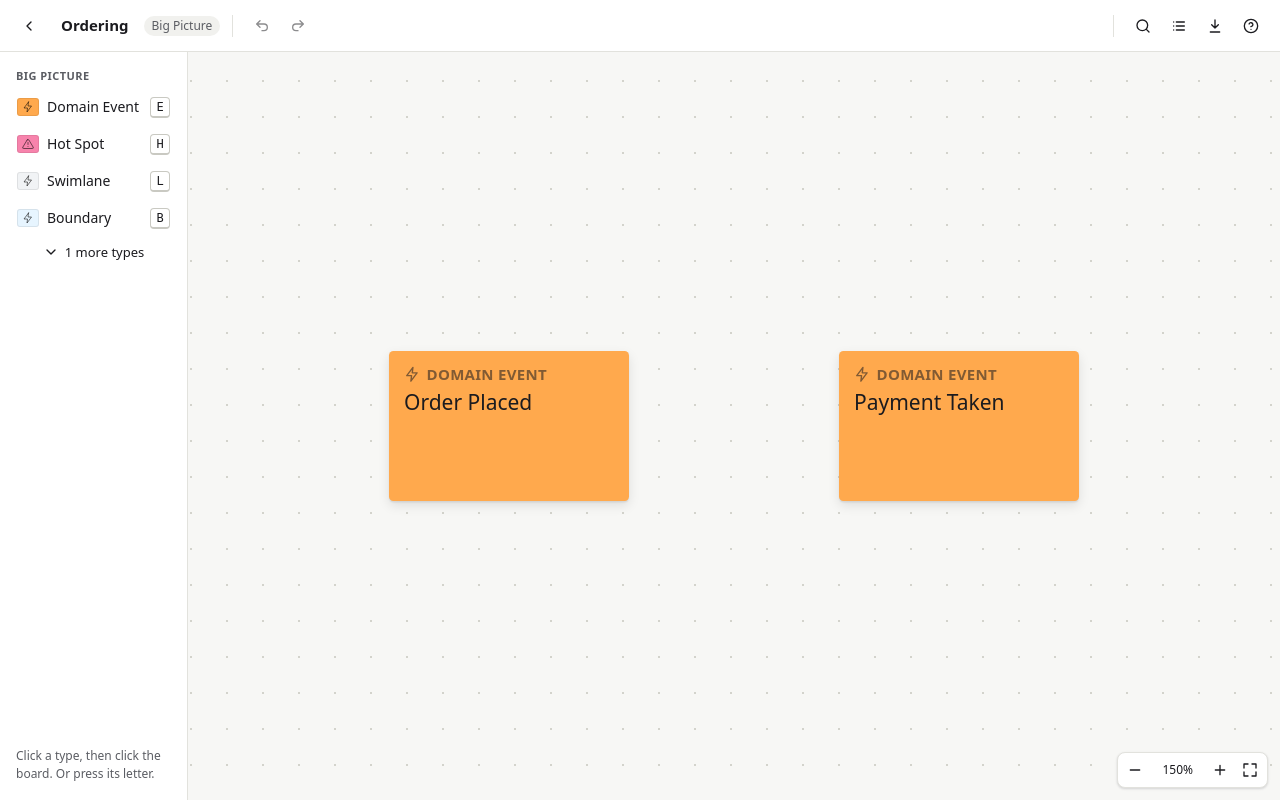
Test: board editor › adds a sticky from the keyboard: its letter, the text, Enter
This screenshot has width=1280, height=800.
Check: the button with aria-label "Domain Event: Order Placed" is shown, box [389,351,629,501]
Step 1. Type keys "h"
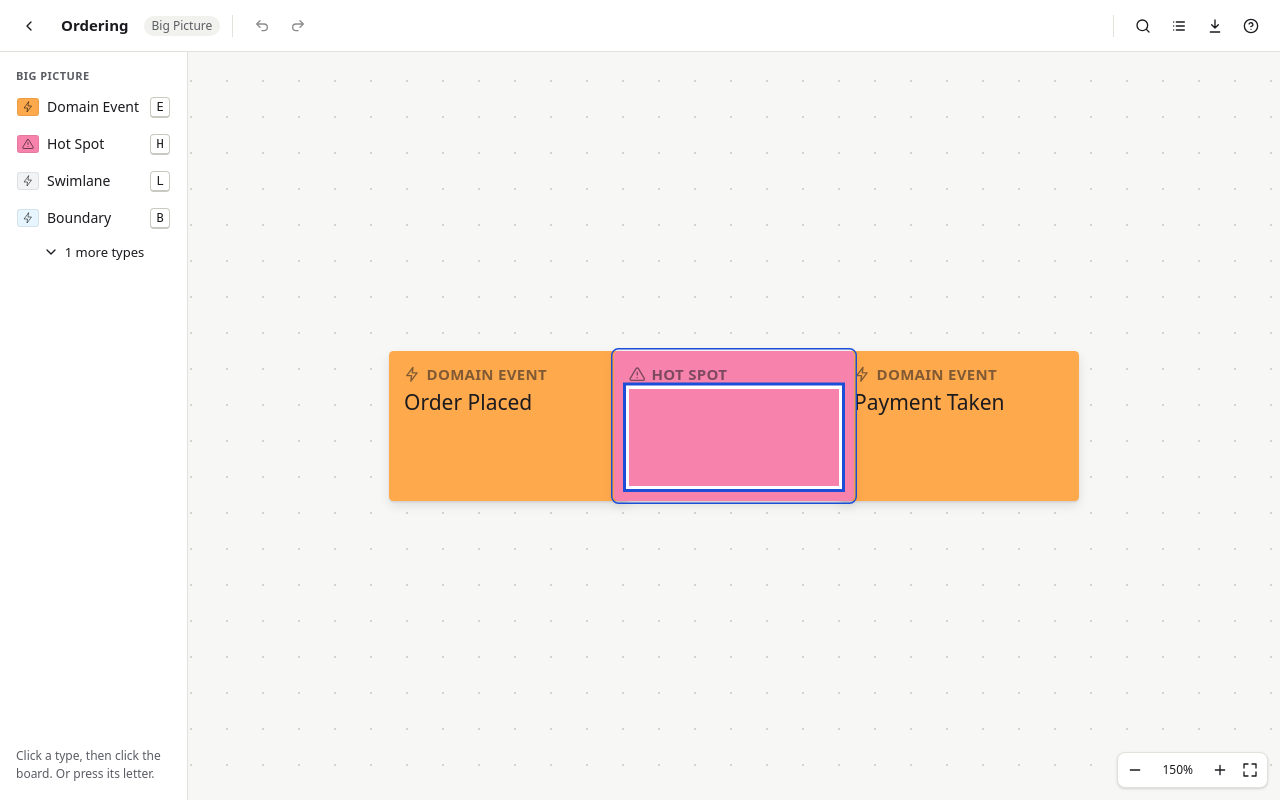
Step 2. Type "Who pays for a refund?" into the text box named "Text of the new Hot Spot" → (734, 437), box [629,388,839,486]
Then press Enter
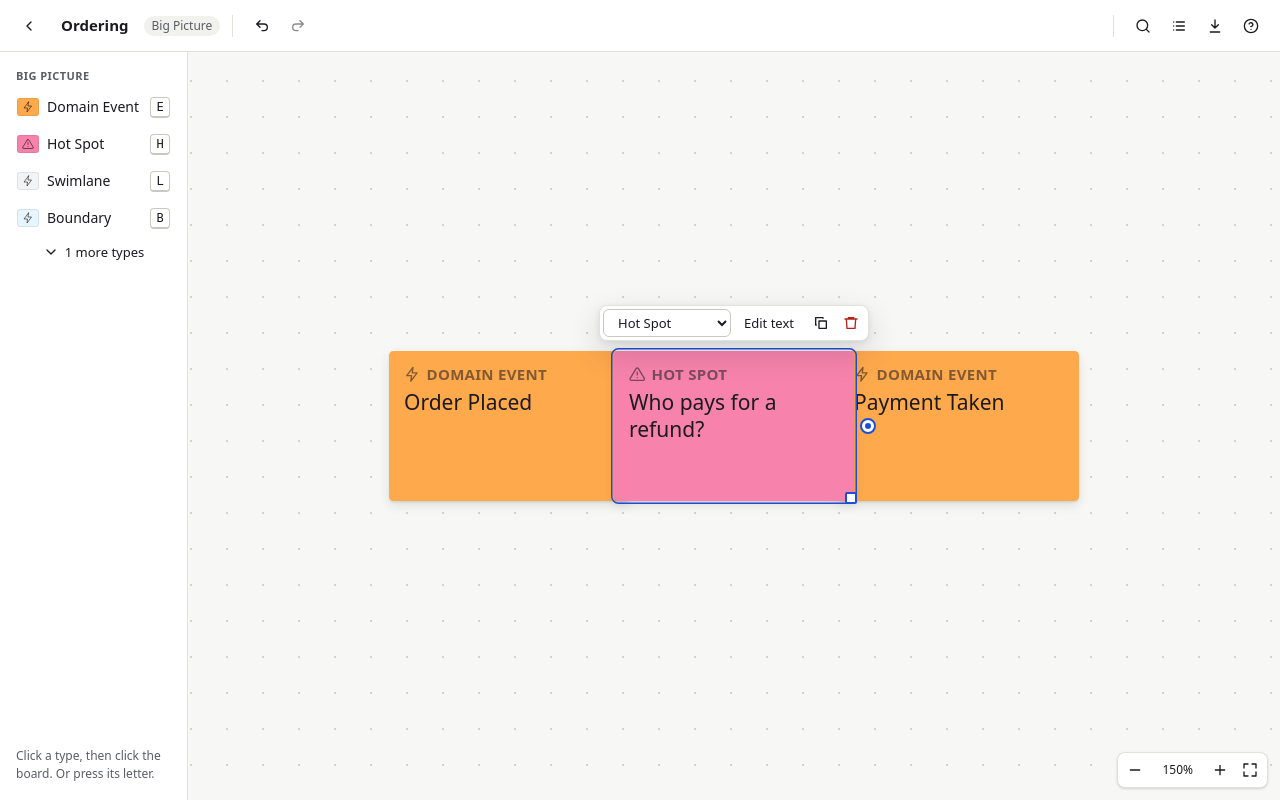
Check: the button with aria-label "Hot Spot: Who pays for a refund?" is shown, box [614,351,854,501]
